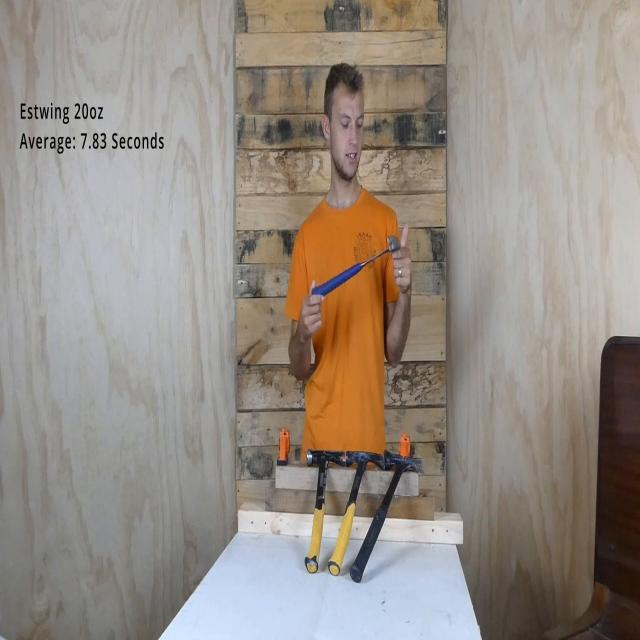hammer: (350, 453, 422, 583), (328, 449, 386, 579), (303, 448, 349, 576), (311, 234, 401, 298)
